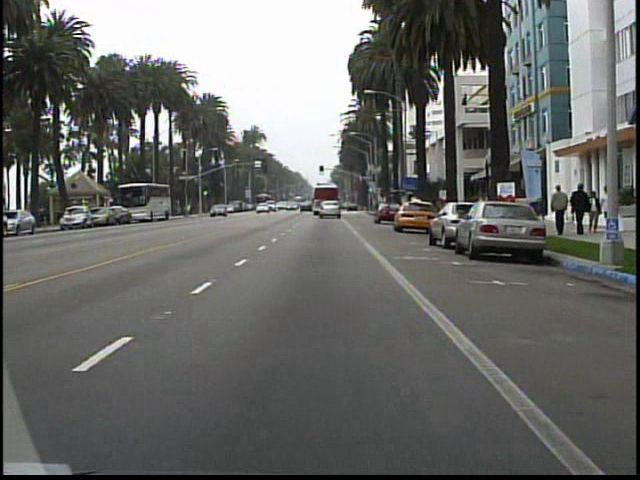person: (570, 177, 591, 237), (548, 183, 570, 237), (600, 182, 618, 233)
